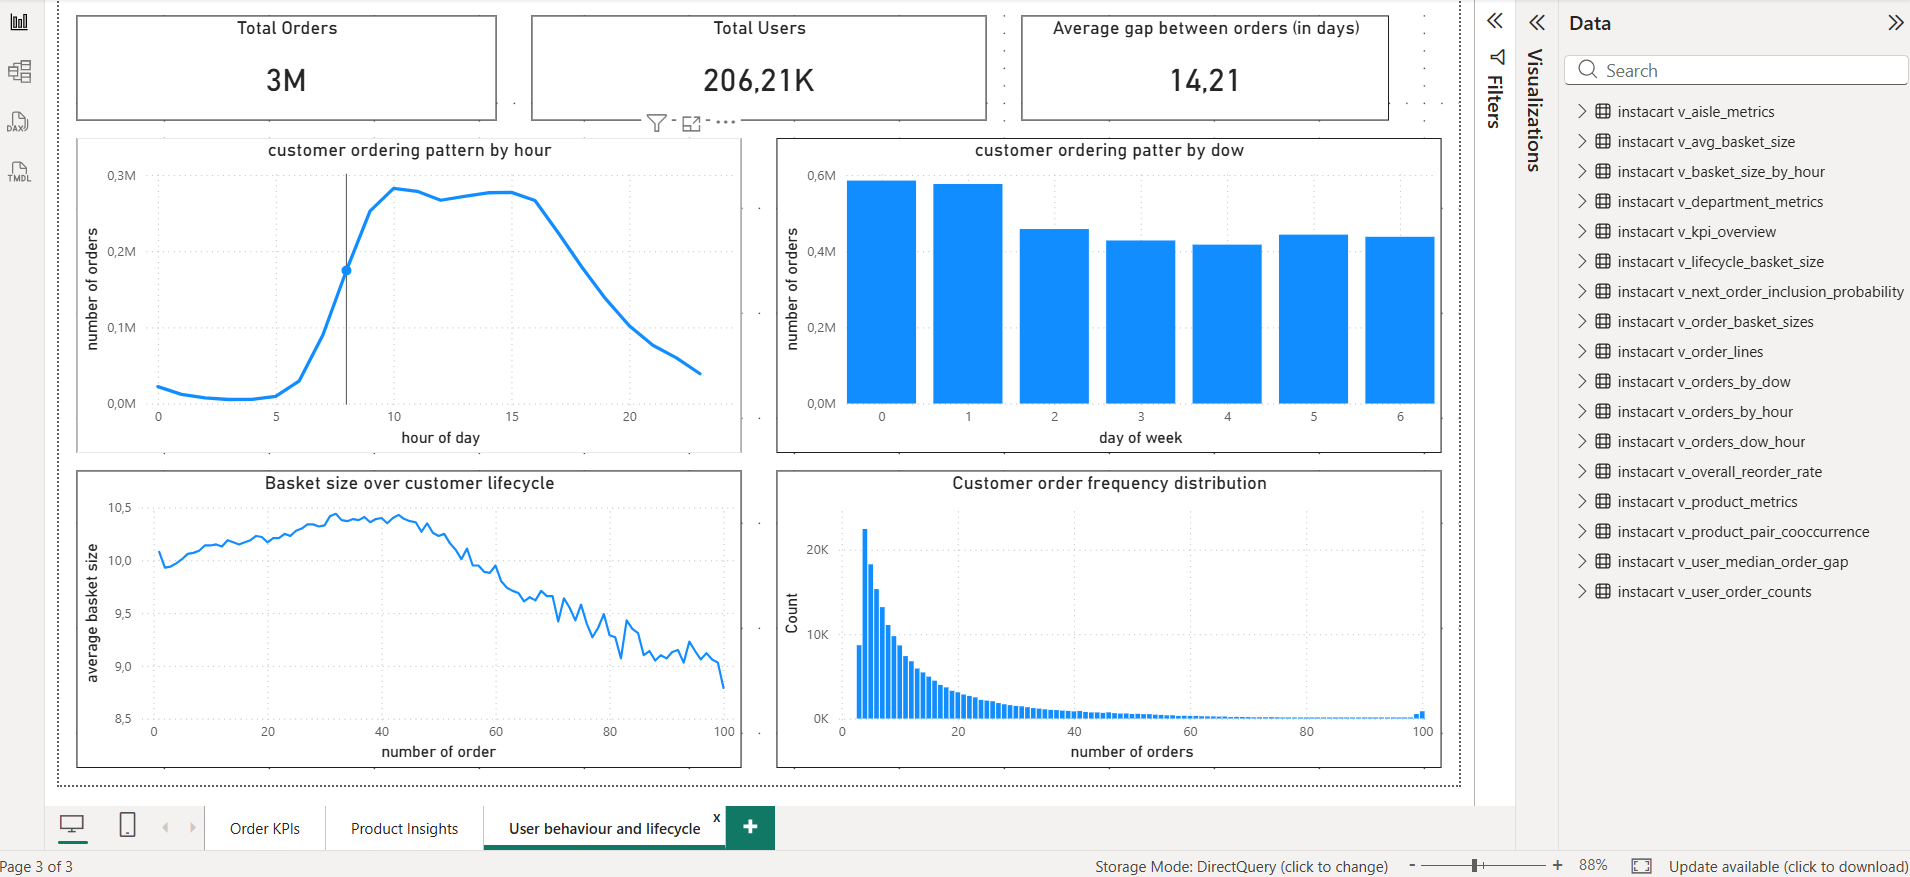

What the dashboard file says about the page in this screenshot:
{"tool":"powerbi","page":{"name":"User behaviour and lifecycle","canvas":[1280,720],"ordinal":2},"visuals":[{"type":"card","title":"Total Orders","fields":{"Values":["Sum(instacart v_user_order_counts.order_count)"]},"box":[16,16,384,96],"z":0},{"type":"card","title":"Average gap between orders (in days)","fields":{"Values":["Avg(instacart v_user_median_order_gap.median_days_between_orders)"]},"box":[880,16,336,96],"z":1000},{"type":"card","title":"Total Users","fields":{"Values":["Count(instacart v_user_order_counts.user_id)"]},"box":[432,16,416,96],"z":2000},{"type":"lineChart","title":"Basket size over customer lifecycle","fields":{"Category":["instacart v_lifecycle_basket_size.order_number"],"Y":["Sum(instacart v_lifecycle_basket_size.avg_basket_size)"]},"box":[16,432,608,272],"z":3000},{"type":"lineChart","title":"customer ordering pattern by hour","fields":{"Category":["instacart v_orders_by_hour.hour_of_day"],"Y":["Sum(instacart v_orders_by_hour.number_of_orders)"]},"box":[16,128,608,288],"z":4000},{"type":"clusteredColumnChart","title":"customer ordering patter by dow","fields":{"Y":["Sum(instacart v_orders_by_dow.number_of_orders)"],"Category":["instacart v_orders_by_dow.day_of_week"]},"box":[656,128,608,288],"z":5000},{"type":"columnChart","title":"Customer order frequency distribution","fields":{"Category":["instacart v_user_order_counts.order_count"],"Y":["CountNonNull(instacart v_user_order_counts.order_count)"]},"box":[656,432,608,272],"z":6000}]}

Visuals, with their boxes on the page's 1280x720 design canvas (x1, y1, x2, y2). These are canvas units, not pixel positions in the 1910x877 screenshot, which may show the page scaled, cropped or inside an application window:
"Total Orders" card: 16 16 400 112
"Average gap between orders (in days)" card: 880 16 1216 112
"Total Users" card: 432 16 848 112
"Basket size over customer lifecycle" lineChart: 16 432 624 704
"customer ordering pattern by hour" lineChart: 16 128 624 416
"customer ordering patter by dow" clusteredColumnChart: 656 128 1264 416
"Customer order frequency distribution" columnChart: 656 432 1264 704
